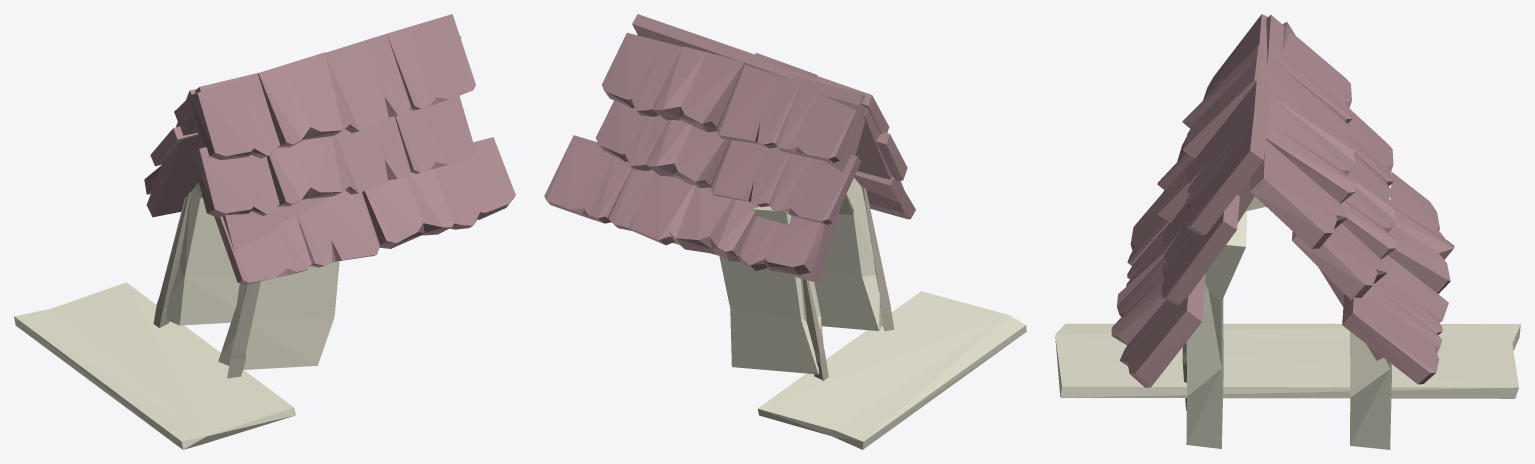
The model's file is WindowsWhole.fbx.
The picture shows the model from 3 angles, left to right: view 1: azimuth 30°, elevation 25°; view 2: azimuth 150°, elevation 25°; view 3: azimuth 270°, elevation 25°; orthographic projection. The views are drawn at different scales.
Parts seen in each view (by area): view 1: WindowsWhole; view 2: WindowsWhole; view 3: WindowsWhole.
Boxes of the visible parts, x1,y1,x2,y2 form: WindowsWhole: (14, 14, 515, 449); WindowsWhole: (544, 14, 1026, 449); WindowsWhole: (1055, 14, 1520, 449).
Size of the model in its own units: 384 by 307 by 310.
